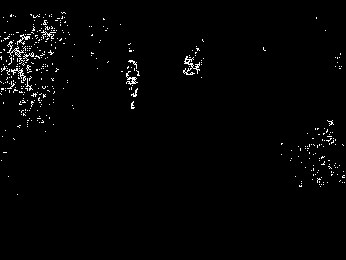person: (122, 57, 143, 112)
